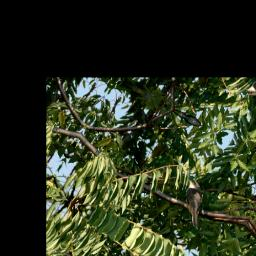Cuckoo: (166, 176, 222, 232)
